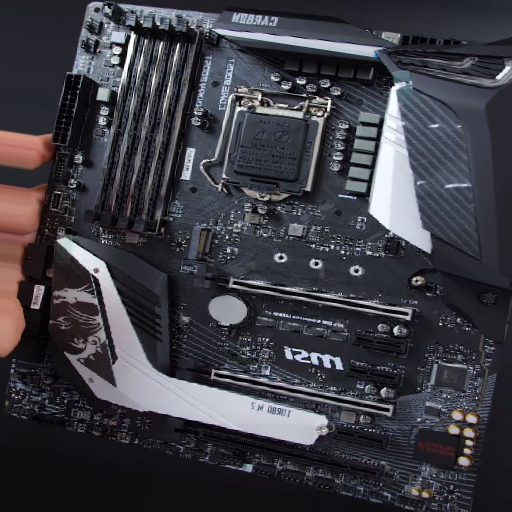CPU: (219, 98, 329, 202)
GPU: (161, 417, 383, 483), (190, 261, 415, 324), (172, 358, 395, 420)
MOTHERBOARD: (8, 7, 508, 507)
RAM: (84, 13, 205, 235)
SSD: (188, 228, 216, 264)
